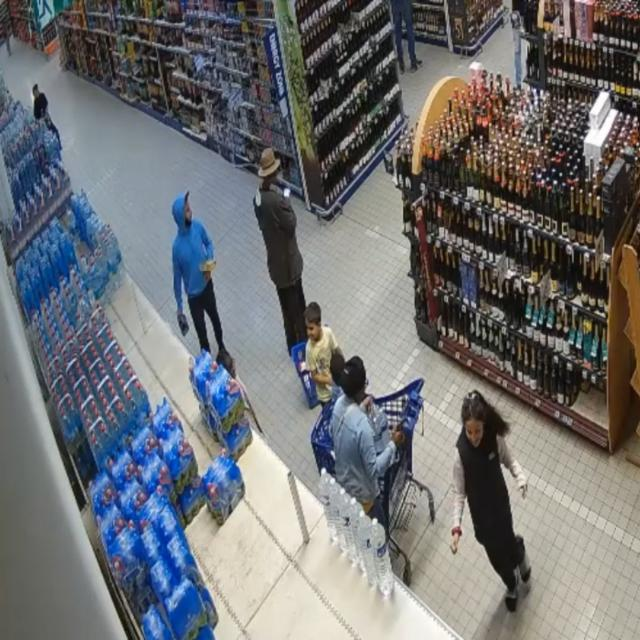article: (177, 314, 189, 337), (199, 261, 216, 272)
hands: (391, 430, 404, 445), (451, 533, 459, 554), (362, 396, 373, 411), (520, 485, 527, 498), (177, 311, 184, 322), (204, 271, 211, 282)
person: (451, 392, 530, 611), (331, 357, 403, 529), (254, 149, 306, 353), (173, 192, 224, 352), (305, 303, 341, 406)
